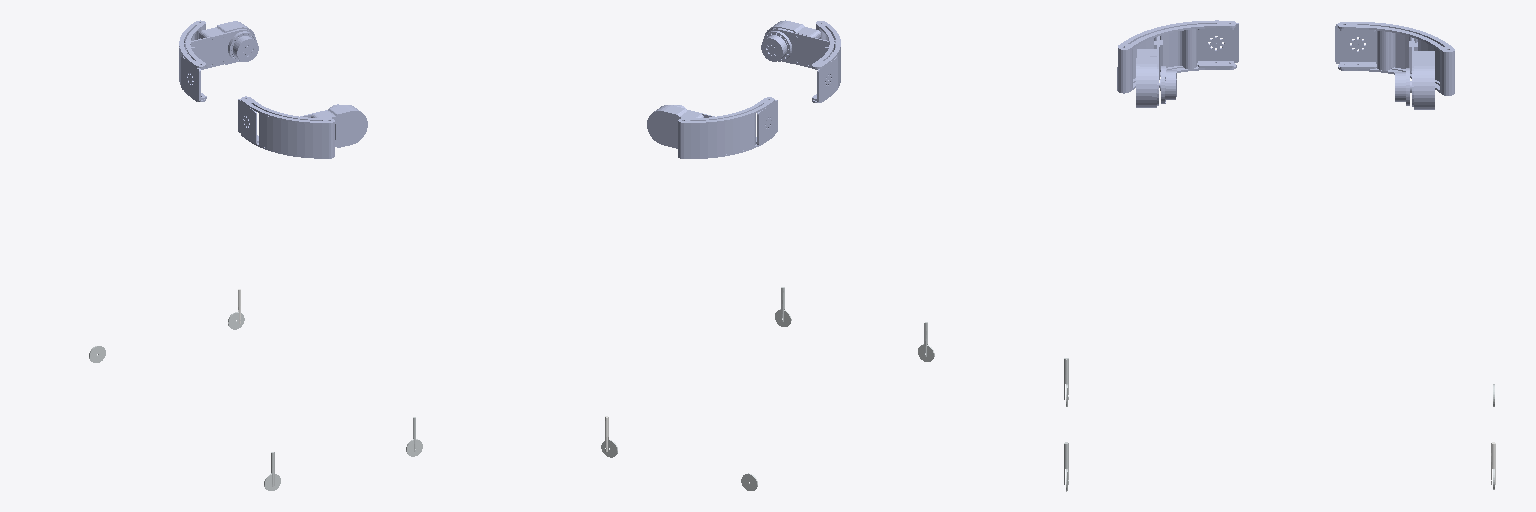
--- Render facts (derived) ---
Views: 3 orthographic renders of the robot side by side, from view 1: azimuth 30°, elevation 25°; view 2: azimuth 150°, elevation 25°; view 3: azimuth 270°, elevation 25°.
Model exoskeleton_btp with 20 links and 19 joints (18 continuous, 1 fixed), rooted at base_link, posed all joints at 0.
Links seen in each view (by area): view 1: right_abd, left_IR, left_abd, right_IR; view 2: left_abd, right_IR, right_abd, left_IR; view 3: right_abd, left_abd, right_IR, left_IR.
Boxes of the visible links, box(x1,y1,x2,y2) form: right_abd: box(238, 96, 334, 158); left_IR: box(184, 21, 258, 69); left_abd: box(179, 20, 206, 101); right_IR: box(300, 104, 367, 147); left_abd: box(678, 97, 777, 158); right_IR: box(761, 20, 835, 67); right_abd: box(812, 21, 840, 102); left_IR: box(647, 105, 714, 148); right_abd: box(1117, 20, 1238, 93); left_abd: box(1335, 22, 1454, 95); right_IR: box(1136, 35, 1176, 107); left_IR: box(1395, 37, 1434, 109).
Bounding box of the posed robot: 0.49 × 0.95 × 0.9888 m (x, y, z).
11 mesh visuals loaded from 20 distinct referenced files (11 binary STL); not drawn: 9 (reference not matched to a file when rendering).

robot.urdf — exoskeleton_btp:
<?xml version="1.0" encoding="utf-8" ?>
<!-- This URDF was automatically created by SolidWorks to URDF Exporter! Originally created by Stephen Brawner ([email redacted]) 
     Commit Version: 1.5.1-0-g916b5db  Build Version: 1.5.7152.31018
     For more information, please see http://wiki.ros.org/sw_urdf_exporter -->
<robot name="exoskeleton_btp">
    <link name="base_link">
        
<inertial>
            <origin xyz="0.1374 0.17784 0.29296" rpy="0 0 0" />
            <mass value="1.6284" />
            <inertia ixx="0.0049242" ixy="-1.1068E-07" ixz="1.4133E-05" iyy="0.0012571" iyz="6.8671E-06" izz="0.0040482" />
        </inertial>

        <visual>
            <origin xyz="0 0 0" rpy="0 0 0" />
            <geometry>
                <mesh filename="package://exoskeleton_btp/meshes/base_link.STL" />
            </geometry>
            <material name="">
                <color rgba="0.79216 0.81961 0.93333 1" />
            </material>
        </visual>
        <collision>
            <origin xyz="0 0 0" rpy="0 0 0" />
            <geometry>
                <mesh filename="package://exoskeleton_btp/meshes/base_link.STL" />
            </geometry>
        </collision>
    </link>
    <link name="right_abd">
        
<inertial>
            <origin xyz="0.060901 0.00077301 0.1073" rpy="0 0 0" />
            <mass value="0.39057" />
            <inertia ixx="0.0017341" ixy="-6.9806E-06" ixz="-0.0009688" iyy="0.0022726" iyz="-8.6331E-06" izz="0.0010696" />
        </inertial>

        <visual>
            <origin xyz="0 0 0" rpy="0 0 0" />
            <geometry>
                <mesh filename="package://exoskeleton_btp/meshes/right_abd.STL" />
            </geometry>
            <material name="">
                <color rgba="0.79216 0.81961 0.93333 1" />
            </material>
        </visual>
        <collision>
            <origin xyz="0 0 0" rpy="0 0 0" />
            <geometry>
                <mesh filename="package://exoskeleton_btp/meshes/right_abd.STL" />
            </geometry>
        </collision>
    </link>
    <joint name="joint_right_abd" type="continuous">
        <origin xyz="0.18866 -0.44997 0.15871" rpy="1.5762 -8.7598E-05 0" />
        <parent link="base_link" />
        <child link="right_abd" />
        <axis xyz="0.99987 -0 0.016127" />
        <limit lower="-1.57" upper="1.57" effort="50" velocity="2" />
    </joint>
    <link name="right_IR">
        
<inertial>
            <origin xyz="-0.0392871810712728 0.0411109744677959 0.138935601316326" rpy="0 0 0" />
            <mass value="0.603610840109084" />
            <inertia ixx="0.000492310842165682" ixy="-2.43938943929523E-07" ixz="-1.74058723223123E-05" iyy="0.000854839735660645" iyz="2.49487643777159E-06" izz="0.00119850539145051" />
        </inertial>

        <visual>
            <origin xyz="0 0 0" rpy="0 0 0" />
            <geometry>
                <mesh filename="package://exoskeleton_btp/meshes/right_IR.STL" />
            </geometry>
            <material name="">
                <color rgba="0.792156862745098 0.819607843137255 0.933333333333333 1" />
            </material>
        </visual>
        <collision>
            <origin xyz="0 0 0" rpy="0 0 0" />
            <geometry>
                <mesh filename="package://exoskeleton_btp/meshes/right_IR.STL" />
            </geometry>
        </collision>
    </link>
    <joint name="joint_right_ir" type="continuous">
        <origin xyz="0.23659 -0.03974 0.0041779" rpy="0 -0.008859 6.4417E-05" />
        <parent link="right_abd" />
        <child link="right_IR" />
        <axis xyz="-0.00011727 -0.99997 0.0072704" />
        <limit lower="-0.78" upper="0.78" effort="50" velocity="0" />
    </joint>
    <link name="right_thigh">
        
<inertial>
            <origin xyz="-0.00587420466230082 -0.298902174142625 0.091775599276321" rpy="0 0 0" />
            <mass value="1.15370911386034" />
            <inertia ixx="0.00218007175592022" ixy="-1.55748585880625E-05" ixz="-4.42415137653492E-06" iyy="0.00132233462272001" iyz="5.74444533558131E-05" izz="0.00283882830556965" />
        </inertial>

        <visual>
            <origin xyz="0 0 0" rpy="0 0 0" />
            <geometry>
                <mesh filename="package://exoskeleton_btp/meshes/right_thigh.STL" />
            </geometry>
            <material name="">
                <color rgba="0.792156862745098 0.819607843137255 0.933333333333333 1" />
            </material>
        </visual>
        <collision>
            <origin xyz="0 0 0" rpy="0 0 0" />
            <geometry>
                <mesh filename="package://exoskeleton_btp/meshes/right_thigh.STL" />
            </geometry>
        </collision>
    </link>
    <joint name="joint_right_hip_flexion" type="continuous">
        <origin xyz="-0.0098949 0.050182 -0.00036542" rpy="0 0.00014564 0.020031" />
        <parent link="right_IR" />
        <child link="right_thigh" />
        <axis xyz="-5.6331E-05 0.0072704 0.99997" />
        <limit lower="-1.57" upper="1.57" effort="50" velocity="2" />
    </joint>
    <link name="right_shin">
        
<inertial>
            <origin xyz="-0.00484324975988659 -0.249966332784877 0.0473164354576108" rpy="0 0 0" />
            <mass value="1.02843390965148" />
            <inertia ixx="0.00235506979229389" ixy="-4.16475367765636E-05" ixz="-5.53584798297785E-06" iyy="0.00135441560259714" iyz="3.29601832998121E-05" izz="0.00314486729465403" />
        </inertial>

        <visual>
            <origin xyz="0 0 0" rpy="0 0 0" />
            <geometry>
                <mesh filename="package://exoskeleton_btp/meshes/right_shin.STL" />
            </geometry>
            <material name="">
                <color rgba="0.792156862745098 0.819607843137255 0.933333333333333 1" />
            </material>
        </visual>
        <collision>
            <origin xyz="0 0 0" rpy="0 0 0" />
            <geometry>
                <mesh filename="package://exoskeleton_btp/meshes/right_shin.STL" />
            </geometry>
        </collision>
    </link>
    <joint name="right_knee_joint" type="continuous">
        <origin xyz="-0.0080859 -0.43466 0.0031598" rpy="0 -4.2582E-05 -0.0058569" />
        <parent link="right_thigh" />
        <child link="right_shin" />
        <axis xyz="-5.6331E-05 0.0072704 0.99997" />
        <limit lower="0" upper="1.57" effort="50" velocity="2" />
    </joint>
    <link name="right_foot">
        
<inertial>
            <origin xyz="0.0270286138870783 -0.0603750401354918 -0.0491138257398857" rpy="0 0 0" />
            <mass value="0.488467661155972" />
            <inertia ixx="0.000615128535492023" ixy="3.500753715996E-06" ixz="-1.67688728203427E-08" iyy="0.000990291323750016" iyz="-3.84872415697616E-06" izz="0.000460939635747118" />
        </inertial>

        <visual>
            <origin xyz="0 0 0" rpy="0 0 0" />
            <geometry>
                <mesh filename="package://exoskeleton_btp/meshes/right_foot.STL" />
            </geometry>
            <material name="">
                <color rgba="0.792156862745098 0.819607843137255 0.933333333333333 1" />
            </material>
        </visual>
        <collision>
            <origin xyz="0 0 0" rpy="0 0 0" />
            <geometry>
                <mesh filename="package://exoskeleton_btp/meshes/right_foot.STL" />
            </geometry>
        </collision>
    </link>
    <joint name="right_ankle_flexion" type="continuous">
        <origin xyz="-0.0076107 -0.41617 0.0029527" rpy="0 -0.00017972 -0.024724" />
        <parent link="right_shin" />
        <child link="right_foot" />
        <axis xyz="-5.6331E-05 0.0072704 0.99997" />
        <limit lower="-0.78" upper="0.78" effort="50" velocity="2" />
    </joint>
    <link name="left_abd">
        
<inertial>
            <origin xyz="0.0652322924298407 -0.00922698573131753 0.107372356173445" rpy="0 0 0" />
            <mass value="0.390571538812804" />
            <inertia ixx="0.00173406573408417" ixy="-6.98064356900783E-06" ixz="-0.000968802831064001" iyy="0.00227256938156413" iyz="-8.6330776029772E-06" izz="0.00106961365428043" />
        </inertial>

        <visual>
            <origin xyz="0 0 0" rpy="0 0 0" />
            <geometry>
                <mesh filename="package://exoskeleton_btp/meshes/left_abd.STL" />
            </geometry>
            <material name="">
                <color rgba="0.792156862745098 0.819607843137255 0.933333333333333 1" />
            </material>
        </visual>
        <collision>
            <origin xyz="0 0 0" rpy="0 0 0" />
            <geometry>
                <mesh filename="package://exoskeleton_btp/meshes/left_abd.STL" />
            </geometry>
        </collision>
    </link>
    <joint name="joint_left_abd" type="continuous">
        <origin xyz="0.18936 -0.13768 0.14796" rpy="-1.5627 0.00013065 -0.032255" />
        <parent link="base_link" />
        <child link="left_abd" />
        <axis xyz="-0.99987 0 -0.016127" />
        <limit lower="-1.57" upper="1.57" effort="50" velocity="2" />
    </joint>
    <link name="left_IR">
        
<inertial>
            <origin xyz="-0.0392990142875405 -0.0497943875974824 0.139669246292548" rpy="0 0 0" />
            <mass value="0.603610840109083" />
            <inertia ixx="0.000492310842165682" ixy="-2.43938943929588E-07" ixz="-1.74058723223128E-05" iyy="0.000854839735660643" iyz="2.49487643777121E-06" izz="0.0011985053914505" />
        </inertial>

        <visual>
            <origin xyz="0 0 0" rpy="0 0 0" />
            <geometry>
                <mesh filename="package://exoskeleton_btp/meshes/left_IR.STL" />
            </geometry>
            <material name="">
                <color rgba="0.792156862745098 0.819607843137255 0.933333333333333 1" />
            </material>
        </visual>
        <collision>
            <origin xyz="0 0 0" rpy="0 0 0" />
            <geometry>
                <mesh filename="package://exoskeleton_btp/meshes/left_IR.STL" />
            </geometry>
        </collision>
    </link>
    <joint name="joint_left_ir" type="continuous">
        <origin xyz="0.24094 0.041166 0.0035141" rpy="0 -0.03127 0.00022748" />
        <parent link="left_abd" />
        <child link="left_IR" />
        <axis xyz="0.00011727 0.99997 -0.0072704" />
        <limit lower="-0.78" upper="0.78" effort="50" velocity="0" />
    </joint>
    <link name="left_thigh">
        
<inertial>
            <origin xyz="-0.00587419889410834 -0.288902135446464 0.0917754024034975" rpy="0 0 0" />
            <mass value="1.15370940261833" />
            <inertia ixx="0.00218007113154743" ixy="-1.5574685975789E-05" ixz="-4.42993941603603E-06" iyy="0.00132233519439819" iyz="5.74409958686481E-05" izz="0.00283882929782907" />
        </inertial>

        <visual>
            <origin xyz="0 0 0" rpy="0 0 0" />
            <geometry>
                <mesh filename="package://exoskeleton_btp/meshes/left_thigh.STL" />
            </geometry>
            <material name="">
                <color rgba="0.792156862745098 0.819607843137255 0.933333333333333 1" />
            </material>
        </visual>
        <collision>
            <origin xyz="0 0 0" rpy="0 0 0" />
            <geometry>
                <mesh filename="package://exoskeleton_btp/meshes/left_thigh.STL" />
            </geometry>
        </collision>
    </link>
    <joint name="joint_left_hip_flexion" type="continuous">
        <origin xyz="-0.0097064 -0.050721 0.00036823" rpy="0.01454 -0.00010065 -3.1123" />
        <parent link="left_IR" />
        <child link="left_thigh" />
        <axis xyz="5.6331E-05 -0.0072704 -0.99997" />
        <limit lower="-1.57" upper="1.57" effort="50" velocity="2" />
    </joint>
    <link name="left_shin">
        
<inertial>
            <origin xyz="0.0021572666461262 -0.242332427675037 -0.0452747616492767" rpy="0 0 0" />
            <mass value="1.03950139195202" />
            <inertia ixx="0.00235534748488329" ixy="1.0328444631963E-06" ixz="-5.62826250871304E-06" iyy="0.00135495549315268" iyz="-1.74678122164304E-05" izz="0.00314522174843718" />
        </inertial>

        <visual>
            <origin xyz="0 0 0" rpy="0 0 0" />
            <geometry>
                <mesh filename="package://exoskeleton_btp/meshes/left_shin.STL" />
            </geometry>
            <material name="">
                <color rgba="0.792156862745098 0.819607843137255 0.933333333333333 1" />
            </material>
        </visual>
        <collision>
            <origin xyz="0 0 0" rpy="0 0 0" />
            <geometry>
                <mesh filename="package://exoskeleton_btp/meshes/left_shin.STL" />
            </geometry>
        </collision>
    </link>
    <joint name="joint_left_knee_flexion" type="continuous">
        <origin xyz="-0.0081444 -0.43466 0.0031598" rpy="-3.1343 0.00027035 3.1121" />
        <parent link="left_thigh" />
        <child link="left_shin" />
        <axis xyz="0 0 1" />
        <limit lower="0" upper="1.57" effort="50" velocity="2" />
    </joint>
    <link name="left_foot">
        
<inertial>
            <origin xyz="0.0267458471873576 -0.0597868208876867 0.0498052197209016" rpy="0 0 0" />
            <mass value="0.490370608685154" />
            <inertia ixx="0.000615366860470383" ixy="7.52417050805258E-06" ixz="-5.27465873232875E-12" iyy="0.000990180392648353" iyz="2.64536994064652E-12" izz="0.000460940554043818" />
        </inertial>

        <visual>
            <origin xyz="0 0 0" rpy="0 0 0" />
            <geometry>
                <mesh filename="package://exoskeleton_btp/meshes/left_foot.STL" />
            </geometry>
            <material name="">
                <color rgba="0.792156862745098 0.819607843137255 0.933333333333333 1" />
            </material>
        </visual>
        <collision>
            <origin xyz="0 0 0" rpy="0 0 0" />
            <geometry>
                <mesh filename="package://exoskeleton_btp/meshes/left_foot.STL" />
            </geometry>
        </collision>
    </link>
    <joint name="joint_left_ankle_flexion" type="continuous">
        <origin xyz="0.0031757 -0.40989 0" rpy="0 0 0" />
        <parent link="left_shin" />
        <child link="left_foot" />
        <axis xyz="0 0 1" />
        <limit lower="-0.78" upper="0.78" effort="50" velocity="2" />
    </joint>
    <!-- <link name="world" />
    <joint name="world_joint" type="fixed">
        <parent link="world" />
        <child link="base_link" />
        <origin xyz="0.0 0.0 1" rpy="0.0 0.0 0.0" />
    </joint> -->
    
<transmission name="trans_joint_right_abd">
        <type>transmission_interface/SimpleTransmission</type>
        <joint name="joint_right_abd">
            <hardwareInterface>hardware_interface/PositionJointInterface</hardwareInterface>
        </joint>
        <actuator name="joint_right_abd_motor">
            <hardwareInterface>hardware_interface/PositionJointInterface</hardwareInterface>
            <mechanicalReduction>1</mechanicalReduction>
        </actuator>
    </transmission>
    <transmission name="trans_joint_right_ir">
        <type>transmission_interface/SimpleTransmission</type>
        <joint name="joint_right_ir">
            <hardwareInterface>hardware_interface/PositionJointInterface</hardwareInterface>
        </joint>
        <actuator name="joint_right_ir_motor">
            <hardwareInterface>hardware_interface/PositionJointInterface</hardwareInterface>
            <mechanicalReduction>1</mechanicalReduction>
        </actuator>
    </transmission>
    <transmission name="trans_joint_right_hip_flexion">
        <type>transmission_interface/SimpleTransmission</type>
        <joint name="joint_right_hip_flexion">
            <hardwareInterface>hardware_interface/PositionJointInterface</hardwareInterface>
        </joint>
        <actuator name="joint_right_hip_flexion_motor">
            <hardwareInterface>hardware_interface/PositionJointInterface</hardwareInterface>
            <mechanicalReduction>1</mechanicalReduction>
        </actuator>
    </transmission>
    <transmission name="trans_right_knee_joint">
        <type>transmission_interface/SimpleTransmission</type>
        <joint name="right_knee_joint">
            <hardwareInterface>hardware_interface/PositionJointInterface</hardwareInterface>
        </joint>
        <actuator name="right_knee_joint_motor">
            <hardwareInterface>hardware_interface/PositionJointInterface</hardwareInterface>
            <mechanicalReduction>1</mechanicalReduction>
        </actuator>
    </transmission>
    <transmission name="trans_right_ankle_flexion">
        <type>transmission_interface/SimpleTransmission</type>
        <joint name="right_ankle_flexion">
            <hardwareInterface>hardware_interface/PositionJointInterface</hardwareInterface>
        </joint>
        <actuator name="right_ankle_flexion_motor">
            <hardwareInterface>hardware_interface/PositionJointInterface</hardwareInterface>
            <mechanicalReduction>1</mechanicalReduction>
        </actuator>
    </transmission>
    <transmission name="trans_joint_left_abd">
        <type>transmission_interface/SimpleTransmission</type>
        <joint name="joint_left_abd">
            <hardwareInterface>hardware_interface/PositionJointInterface</hardwareInterface>
        </joint>
        <actuator name="joint_left_abd_motor">
            <hardwareInterface>hardware_interface/PositionJointInterface</hardwareInterface>
            <mechanicalReduction>1</mechanicalReduction>
        </actuator>
    </transmission>
    <transmission name="trans_joint_left_ir">
        <type>transmission_interface/SimpleTransmission</type>
        <joint name="joint_left_ir">
            <hardwareInterface>hardware_interface/PositionJointInterface</hardwareInterface>
        </joint>
        <actuator name="joint_left_ir_motor">
            <hardwareInterface>hardware_interface/PositionJointInterface</hardwareInterface>
            <mechanicalReduction>1</mechanicalReduction>
        </actuator>
    </transmission>
    <transmission name="trans_joint_left_hip_flexion">
        <type>transmission_interface/SimpleTransmission</type>
        <joint name="joint_left_hip_flexion">
            <hardwareInterface>hardware_interface/PositionJointInterface</hardwareInterface>
        </joint>
        <actuator name="joint_left_hip_flexion_motor">
            <hardwareInterface>hardware_interface/PositionJointInterface</hardwareInterface>
            <mechanicalReduction>1</mechanicalReduction>
        </actuator>
    </transmission>
    <transmission name="trans_joint_left_knee_flexion">
        <type>transmission_interface/SimpleTransmission</type>
        <joint name="joint_left_knee_flexion">
            <hardwareInterface>hardware_interface/PositionJointInterface</hardwareInterface>
        </joint>
        <actuator name="joint_left_knee_flexion_motor">
            <hardwareInterface>hardware_interface/PositionJointInterface</hardwareInterface>
            <mechanicalReduction>1</mechanicalReduction>
        </actuator>
    </transmission>
    <transmission name="trans_joint_left_ankle_flexion">
        <type>transmission_interface/SimpleTransmission</type>
        <joint name="joint_left_ankle_flexion">
            <hardwareInterface>hardware_interface/PositionJointInterface</hardwareInterface>
        </joint>
        <actuator name="joint_left_ankle_flexion_motor">
            <hardwareInterface>hardware_interface/PositionJointInterface</hardwareInterface>
            <mechanicalReduction>1</mechanicalReduction>
        </actuator>
    </transmission>
    <gazebo>
        <plugin name="gazebo_ros_control" filename="libgazebo_ros_control.so">
            <robotNamespace>/</robotNamespace>
        </plugin>
    </gazebo>
  <link
    name="rig_base_link">
    <inertial>
      <origin
        xyz="0.49 -0.28213 -0.24"
        rpy="0 0 1.5708" />
      <mass
        value="15.306" />
      <inertia
        ixx="3.6782"
        ixy="8.0882E-15"
        ixz="-7.7592E-15"
        iyy="6.0452"
        iyz="4.0073E-15"
        izz="7.3162" />
    </inertial>
    <visual>
      <origin
        xyz="0 0 0"
        rpy="0 0 0" />
      <geometry>
        <mesh
          filename="package://test_rig/meshes/base_link.STL" />
      </geometry>
      <material
        name="">
        <color
          rgba="0.89804 0.91765 0.92941 1" />
      </material>
    </visual>
    <collision>
      <origin
        xyz="0 0 0"
        rpy="0 0 0" />
      <geometry>
        <mesh
          filename="package://test_rig/meshes/base_link.STL" />
      </geometry>
    </collision>
  </link>
  <link
    name="pin1">
    <inertial>
      <origin
        xyz="1.71101498143422E-08 -0.0395589484462103 1.84748782938726E-09"
        rpy="0 0 0" />
      <mass
        value="0.0157921694406014" />
      <inertia
        ixx="1.03075142406506E-05"
        ixy="1.21727503100021E-11"
        ixz="-1.57404961727643E-13"
        iyy="2.11290786395121E-07"
        iyz="1.16507657337882E-12"
        izz="1.03336371454732E-05" />
    </inertial>
    <visual>
      <origin
        xyz="0 0 0"
        rpy="0 0 0" />
      <geometry>
        <mesh
          filename="package://test_rig/meshes/pin1.STL" />
      </geometry>
      <material
        name="">
        <color
          rgba="0.898039215686275 0.917647058823529 0.929411764705882 1" />
      </material>
    </visual>
    <collision>
      <origin
        xyz="0 0 0"
        rpy="0 0 0" />
      <geometry>
        <mesh
          filename="package://test_rig/meshes/pin1.STL" />
      </geometry>
    </collision>
  </link>
  <joint
    name="joint_pin1"
    type="continuous">
    <origin
      xyz="0.02 .02 -0.89"
      rpy="1.5708 0 -0.017891" />
    <parent
      link="rig_base_link" />
    <child
      link="pin1" />
    <axis
      xyz="0 -1 0" />
  </joint>
  <link
    name="wheel1">
    <inertial>
      <origin
        xyz="0 -1.11022302462516E-16 0.000500000000000007"
        rpy="0 0 0" />
      <mass
        value="0.0209936929076138" />
      <inertia
        ixx="3.34105875252629E-06"
        ixy="-5.29395592033938E-23"
        ixz="-1.26558633720613E-22"
        iyy="3.34105875252629E-06"
        iyz="-4.30133918527574E-23"
        izz="6.62613432396561E-06" />
    </inertial>
    <visual>
      <origin
        xyz="0 0 0"
        rpy="0 0 0" />
      <geometry>
        <mesh
          filename="package://test_rig/meshes/wheel1.STL" />
      </geometry>
      <material
        name="">
        <color
          rgba="0.898039215686275 0.917647058823529 0.929411764705882 1" />
      </material>
    </visual>
    <collision>
      <origin
        xyz="0 0 0"
        rpy="0 0 0" />
      <geometry>
        <mesh
          filename="package://test_rig/meshes/wheel1.STL" />
      </geometry>
    </collision>
  </link>
  <joint
    name="joint_wheel1"
    type="continuous">
    <origin
      xyz="0 -0.09 0"
      rpy="1.5708 -0.094639 1.5708" />
    <parent
      link="pin1" />
    <child
      link="wheel1" />
    <axis
      xyz="0 0 -1" />
  </joint>
  <link
    name="pin2">
    <inertial>
      <origin
        xyz="1.71101498525061E-08 -0.0395589484462106 1.84748785714284E-09"
        rpy="0 0 0" />
      <mass
        value="0.0157921694406015" />
      <inertia
        ixx="1.03075142406506E-05"
        ixy="1.21727503121143E-11"
        ixz="-1.57404961674703E-13"
        iyy="2.11290786395122E-07"
        iyz="1.1650765749663E-12"
        izz="1.03336371454733E-05" />
    </inertial>
    <visual>
      <origin
        xyz="0 0 0"
        rpy="0 0 0" />
      <geometry>
        <mesh
          filename="package://test_rig/meshes/pin2.STL" />
      </geometry>
      <material
        name="">
        <color
          rgba="0.898039215686275 0.917647058823529 0.929411764705882 1" />
      </material>
    </visual>
    <collision>
      <origin
        xyz="0 0 0"
        rpy="0 0 0" />
      <geometry>
        <mesh
          filename="package://test_rig/meshes/pin2.STL" />
      </geometry>
    </collision>
  </link>
  <joint
    name="joint_pin2"
    type="continuous">
    <origin
      xyz="0.96 0.02 -0.89"
      rpy="1.5708 0 -0.017891" />
    <parent
      link="rig_base_link" />
    <child
      link="pin2" />
    <axis
      xyz="0 -1 0" />
  </joint>
  <link
    name="wheel2">
    <inertial>
      <origin
        xyz="0 0 0.000499999999999723"
        rpy="0 0 0" />
      <mass
        value="0.020993692907614" />
      <inertia
        ixx="3.34105875252632E-06"
        ixy="-2.64697796016969E-23"
        ixz="-1.49190295280064E-20"
        iyy="3.34105875252632E-06"
        iyz="2.35250166210081E-21"
        izz="6.62613432396567E-06" />
    </inertial>
    <visual>
      <origin
        xyz="0 0 0"
        rpy="0 0 0" />
      <geometry>
        <mesh
          filename="package://test_rig/meshes/wheel2.STL" />
      </geometry>
      <material
        name="">
        <color
          rgba="0.898039215686275 0.917647058823529 0.929411764705882 1" />
      </material>
    </visual>
    <collision>
      <origin
        xyz="0 0 0"
        rpy="0 0 0" />
      <geometry>
        <mesh
          filename="package://test_rig/meshes/wheel2.STL" />
      </geometry>
    </collision>
  </link>
  <joint
    name="joint_wheel2"
    type="continuous">
    <origin
      xyz="0 -0.0900000000000001 0"
      rpy="1.5707963267949 -0.0946389386873221 1.5707963267949" />
    <parent
      link="pin2" />
    <child
      link="wheel2" />
    <axis
      xyz="0 0 -1" />
  </joint>
  <link
    name="pin3">
    <inertial>
      <origin
        xyz="1.71101498525061E-08 -0.0395589484462106 1.84748777387611E-09"
        rpy="0 0 0" />
      <mass
        value="0.0157921694406015" />
      <inertia
        ixx="1.03075142406506E-05"
        ixy="1.2172750308802E-11"
        ixz="-1.57404961793817E-13"
        iyy="2.11290786395121E-07"
        iyz="1.16507656974716E-12"
        izz="1.03336371454733E-05" />
    </inertial>
    <visual>
      <origin
        xyz="0 0 0"
        rpy="0 0 0" />
      <geometry>
        <mesh
          filename="package://test_rig/meshes/pin3.STL" />
      </geometry>
      <material
        name="">
        <color
          rgba="0.898039215686275 0.917647058823529 0.929411764705882 1" />
      </material>
    </visual>
    <collision>
      <origin
        xyz="0 0 0"
        rpy="0 0 0" />
      <geometry>
        <mesh
          filename="package://test_rig/meshes/pin3.STL" />
      </geometry>
    </collision>
  </link>
  <joint
    name="joint_pin3"
    type="continuous">
    <origin
      xyz="0.96 0.46 -0.89"
      rpy="1.5708 0 -0.017891" />
    <parent
      link="rig_base_link" />
    <child
      link="pin3" />
    <axis
      xyz="0 -1 0" />
  </joint>
  <link
    name="wheel3">
    <inertial>
      <origin
        xyz="0 -1.11022302462516E-16 0.000499999999999945"
        rpy="0 0 0" />
      <mass
        value="0.020993692907614" />
      <inertia
        ixx="3.34105875252633E-06"
        ixy="-5.29395592033938E-23"
        ixz="-1.49612157392466E-20"
        iyy="3.34105875252632E-06"
        iyz="2.25985743349487E-21"
        izz="6.62613432396568E-06" />
    </inertial>
    <visual>
      <origin
        xyz="0 0 0"
        rpy="0 0 0" />
      <geometry>
        <mesh
          filename="package://test_rig/meshes/wheel3.STL" />
      </geometry>
      <material
        name="">
        <color
          rgba="0.898039215686275 0.917647058823529 0.929411764705882 1" />
      </material>
    </visual>
    <collision>
      <origin
        xyz="0 0 0"
        rpy="0 0 0" />
      <geometry>
        <mesh
          filename="package://test_rig/meshes/wheel3.STL" />
      </geometry>
    </collision>
  </link>
  <joint
    name="joint_wheel3"
    type="continuous">
    <origin
      xyz="0 -0.0900000000000001 0"
      rpy="1.5707963267949 -0.0946389386873223 1.5707963267949" />
    <parent
      link="pin3" />
    <child
      link="wheel3" />
    <axis
      xyz="0 0 -1" />
  </joint>
  <link
    name="pin4">
    <inertial>
      <origin
        xyz="0 0 0"
        rpy="0 0 0" />
      <mass
        value="0.0157921694406015" />
      <inertia
        ixx="1.03075142406506E-05"
        ixy="1.2172750308802E-11"
        ixz="-1.57404961793817E-13"
        iyy="2.11290786395121E-07"
        iyz="1.16507656974716E-12"
        izz="1.03336371454733E-05" />
    </inertial>
    <visual>
      <origin
        xyz="0 0 0"
        rpy="0 0 0" />
      <geometry>
        <mesh
          filename="package://test_rig/meshes/pin4.STL" />
      </geometry>
      <material
        name="">
        <color
          rgba="1 1 1 1" />
      </material>
    </visual>
    <collision>
      <origin
        xyz="0 0 0"
        rpy="0 0 0" />
      <geometry>
        <mesh
          filename="package://test_rig/meshes/pin1.STL" />
      </geometry>
    </collision>
  </link>
  <joint
    name="joint_pin4"
    type="continuous">
    <origin
      xyz="0.02 .46 -0.89"
      rpy="1.5708 0 -0.017891" />
    <parent
      link="rig_base_link" />
    <child
      link="pin4" />
    <axis
      xyz="0 -1 0" />
  </joint>
  <link
    name="wheel4">
    <inertial>
      <origin
        xyz="0 -0.0 0.000500000000000009"
        rpy="0 0 0" />
      <mass
        value="0.0209936929076138" />
      <inertia
        ixx="3.34105875252629E-06"
        ixy="-5.29395592033938E-23"
        ixz="-1.26558633720613E-22"
        iyy="3.34105875252629E-06"
        iyz="-4.30133918527574E-23"
        izz="6.62613432396561E-06" />
    </inertial>
    <visual>
      <origin
        xyz="0 0 0"
        rpy="0 0 0" />
      <geometry>
        <mesh
          filename="package://test_rig/meshes/wheel4.STL" />
      </geometry>
      <material
        name="">
        <color
          rgba="0.898039215686275 0.917647058823529 0.929411764705882 1" />
      </material>
    </visual>
    <collision>
      <origin
        xyz="0 0 0"
        rpy="0 0 0" />
      <geometry>
        <mesh
          filename="package://test_rig/meshes/wheel4.STL" />
      </geometry>
    </collision>
  </link>
  <joint
    name="joint_wheel4"
    type="continuous">
    <origin
      xyz="0 -0.0909449772921084 0.00995525077119574"
      rpy="1.5707963267949 -0.0946389386873223 1.5707963267949" />
    <parent
      link="pin4" />
    <child
      link="wheel4" />
    <axis
      xyz="0 0 -1" />
  </joint>
    <joint name="exo_base_rig_joint" type="fixed">
        <parent link="base_link" />
        <child link="rig_base_link" />
        <origin xyz="0.06 0.180 0.22925" rpy="0.0 0.0 -1.5708" />
    </joint>
</robot>
